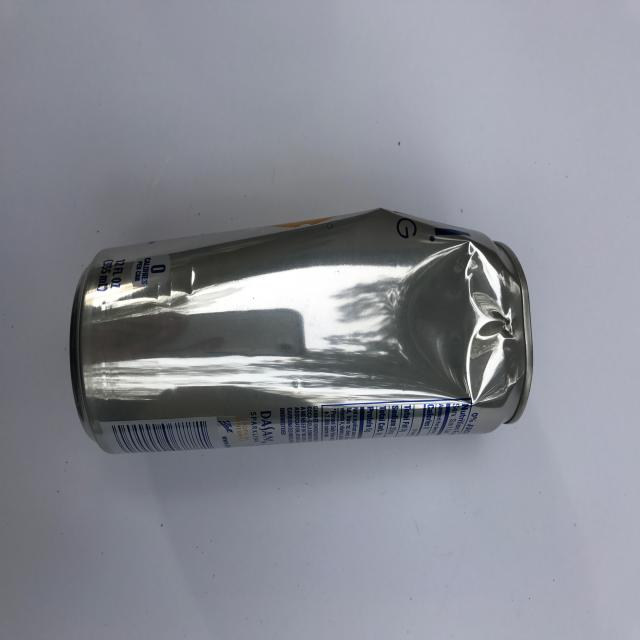Metal: (64, 200, 554, 467)
